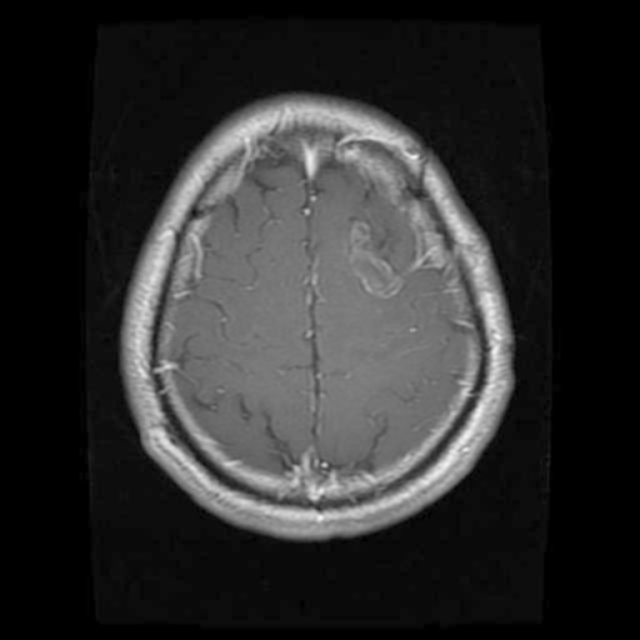pituitary tumor: (354, 225, 410, 303)
